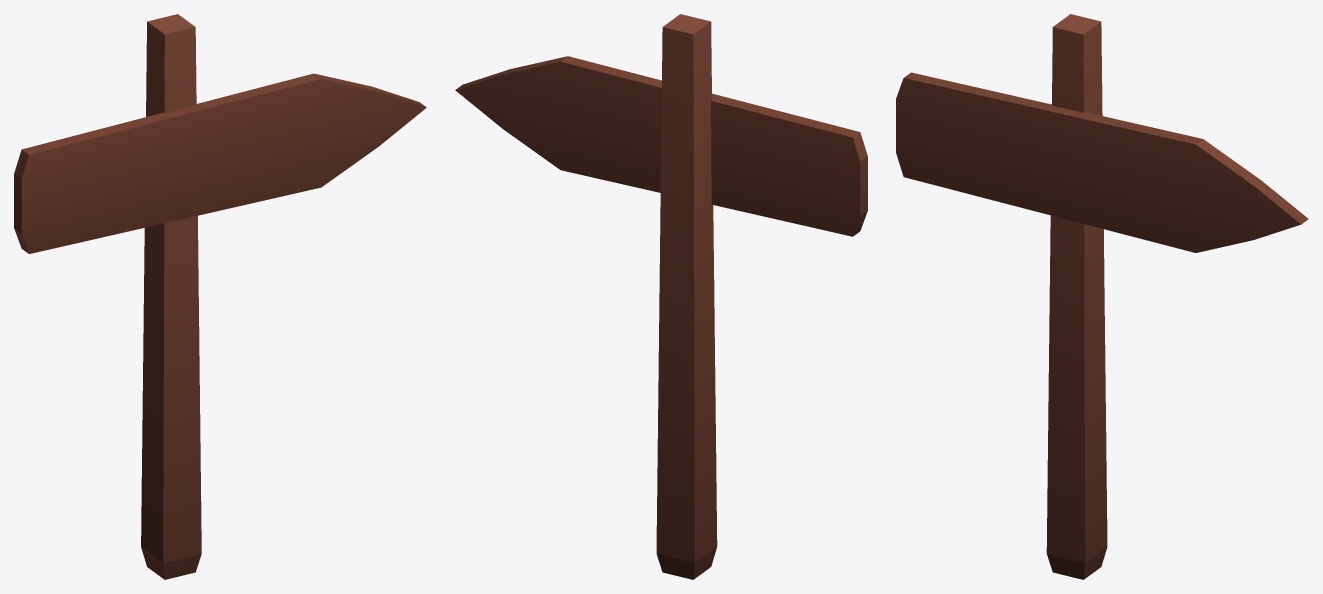
Rendered from farmpack2023sign02.fbx.
3 renders of one model, left to right at view 1: azimuth 30°, elevation 25°; view 2: azimuth 150°, elevation 25°; view 3: azimuth 330°, elevation 25°, orthographic.
Parts seen in each view (by area): view 1: Plane.013; view 2: Plane.013; view 3: Plane.013.
Part boxes in pixels (left/top/right/bottom): Plane.013: left=14, top=14, right=426, bottom=579; Plane.013: left=455, top=14, right=867, bottom=579; Plane.013: left=896, top=14, right=1308, bottom=579.
Size of the model in its own units: 0.2115 by 1.85 by 2.38.
